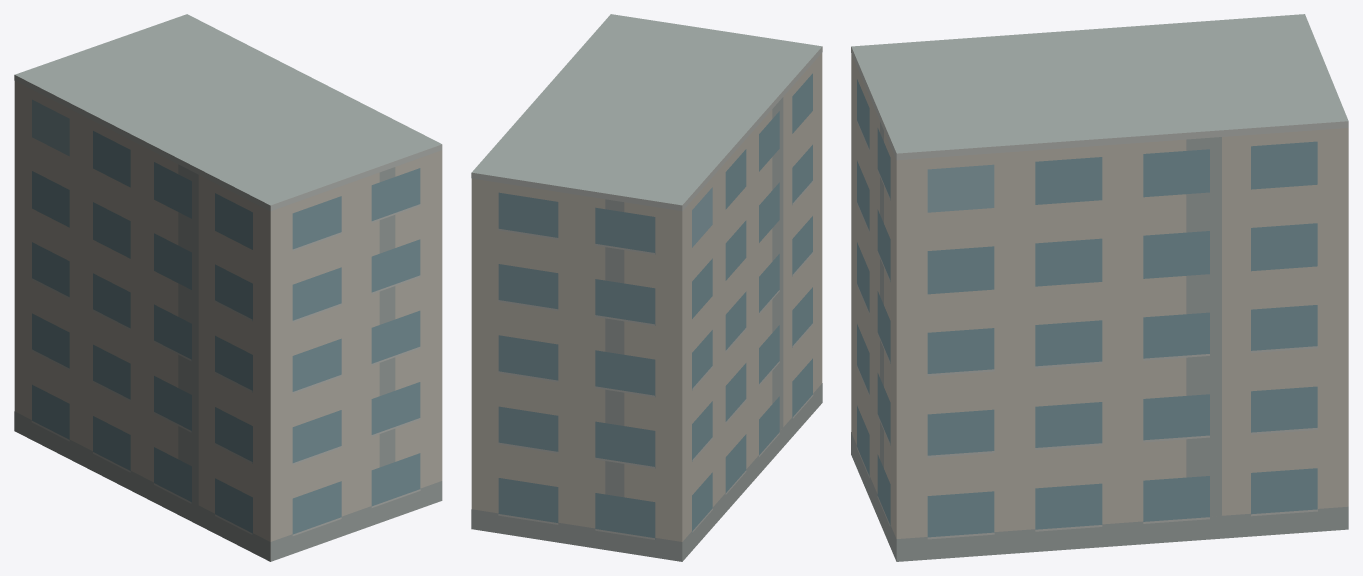
The model's file is survey-upis-32827627.glb.
The picture shows the model from 3 angles, left to right: view 1: azimuth 30°, elevation 25°; view 2: azimuth 150°, elevation 25°; view 3: azimuth 270°, elevation 25°; orthographic projection. The views are drawn at different scales.
Visible parts, largest first — view 1: survey-upis-32827627.tmp; view 2: survey-upis-32827627.tmp; view 3: survey-upis-32827627.tmp.
Boxes of the visible parts, x1,y1,x2,y2 form: survey-upis-32827627.tmp: [14, 14, 442, 561]; survey-upis-32827627.tmp: [471, 14, 822, 561]; survey-upis-32827627.tmp: [851, 14, 1348, 561].
Size of the model in its own units: 10.93 by 14.9 by 16.46.
